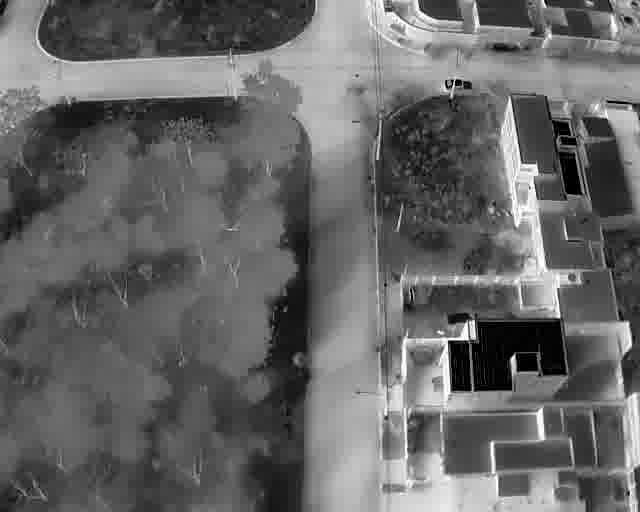car: (441, 78, 473, 92), (446, 311, 475, 326)
